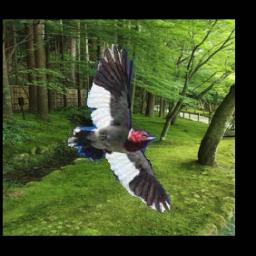Woodpecker: (65, 45, 172, 215)
